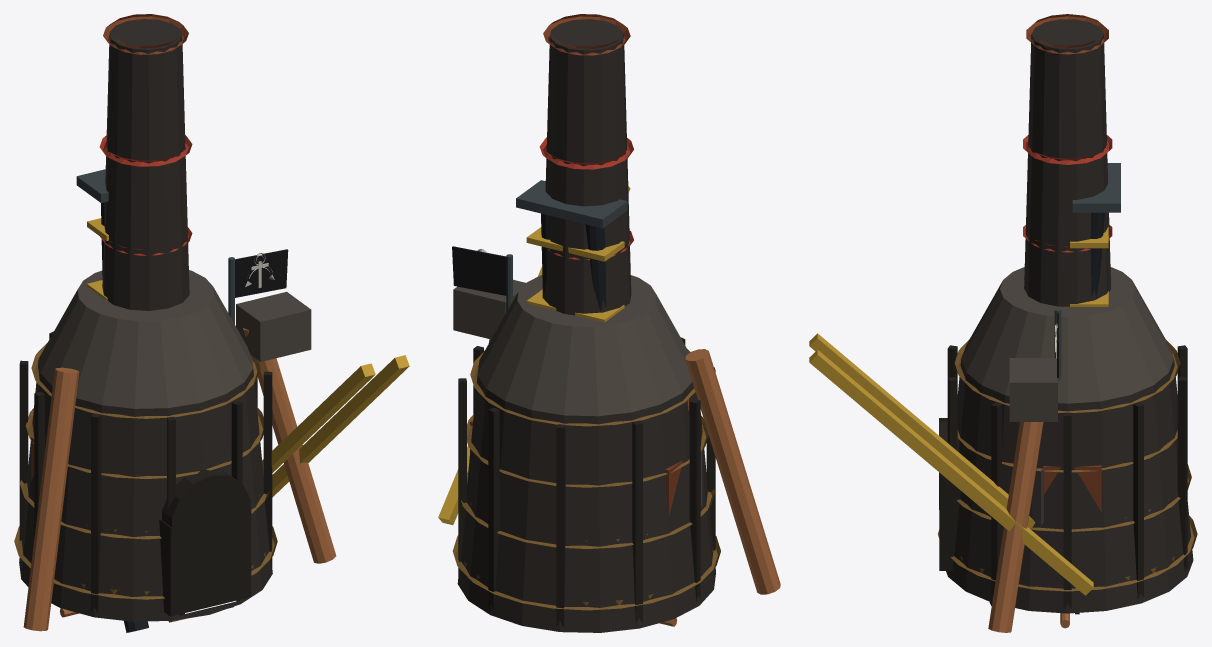
Rendered from dress_factory.glb.
3 renders of one model, left to right at view 1: azimuth 30°, elevation 25°; view 2: azimuth 150°, elevation 25°; view 3: azimuth 270°, elevation 25°, orthographic. The views are drawn at different scales.
Visible parts, largest first — view 1: lm_furnace_m, lm_anchor_m, lm_relay_m; view 2: lm_furnace_m, lm_relay_m, lm_anchor_m; view 3: lm_furnace_m, lm_relay_m, lm_anchor_m.
Part boxes in pixels (box(x1,y1,x2,y2)): lm_furnace_m: box(14, 14, 409, 631); lm_anchor_m: box(31, 249, 288, 481); lm_relay_m: box(76, 169, 233, 632); lm_furnace_m: box(438, 14, 780, 632); lm_relay_m: box(516, 180, 627, 322); lm_anchor_m: box(452, 246, 702, 515); lm_furnace_m: box(809, 14, 1197, 632); lm_relay_m: box(989, 163, 1120, 605); lm_anchor_m: box(1041, 308, 1101, 525).
Bounding box in the file's own units: 7.28 × 12.81 × 8.03.
